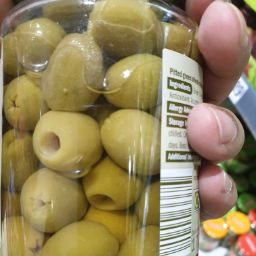Olives: (8, 16, 198, 256), (71, 148, 162, 248), (35, 27, 114, 116), (92, 97, 160, 187), (20, 101, 106, 170), (13, 167, 94, 231), (81, 1, 156, 68), (96, 107, 162, 181), (31, 105, 96, 175), (19, 175, 96, 234), (104, 45, 165, 115), (44, 210, 119, 256), (7, 75, 50, 129), (4, 133, 44, 184)
